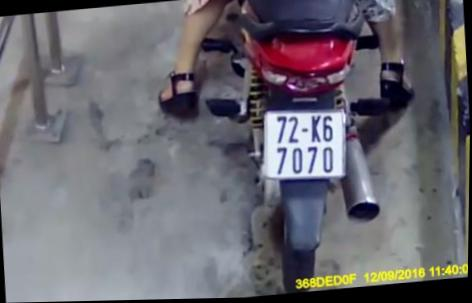LP: (263, 102, 350, 185)
